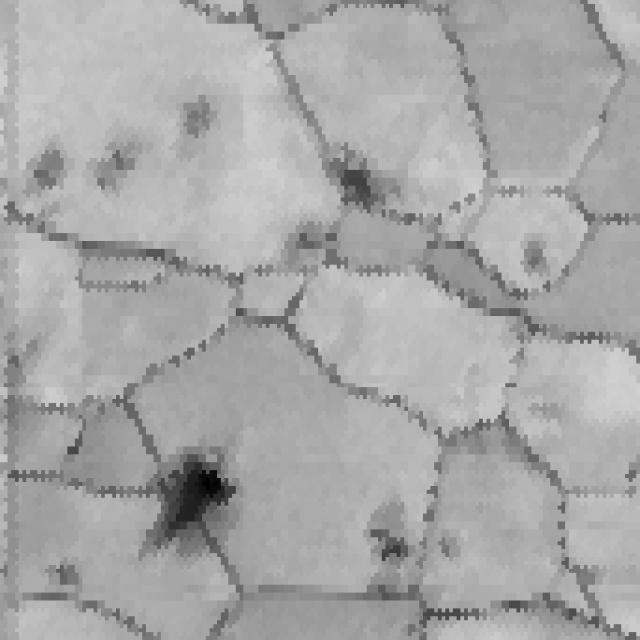good_void: (132, 438, 246, 556), (317, 141, 389, 220), (275, 218, 344, 282), (172, 87, 228, 140), (364, 522, 422, 573), (26, 134, 70, 199), (40, 550, 93, 595), (90, 146, 137, 194), (0, 341, 33, 386), (60, 415, 90, 463), (516, 232, 552, 269), (398, 613, 422, 640), (436, 531, 457, 559), (622, 453, 640, 485)
